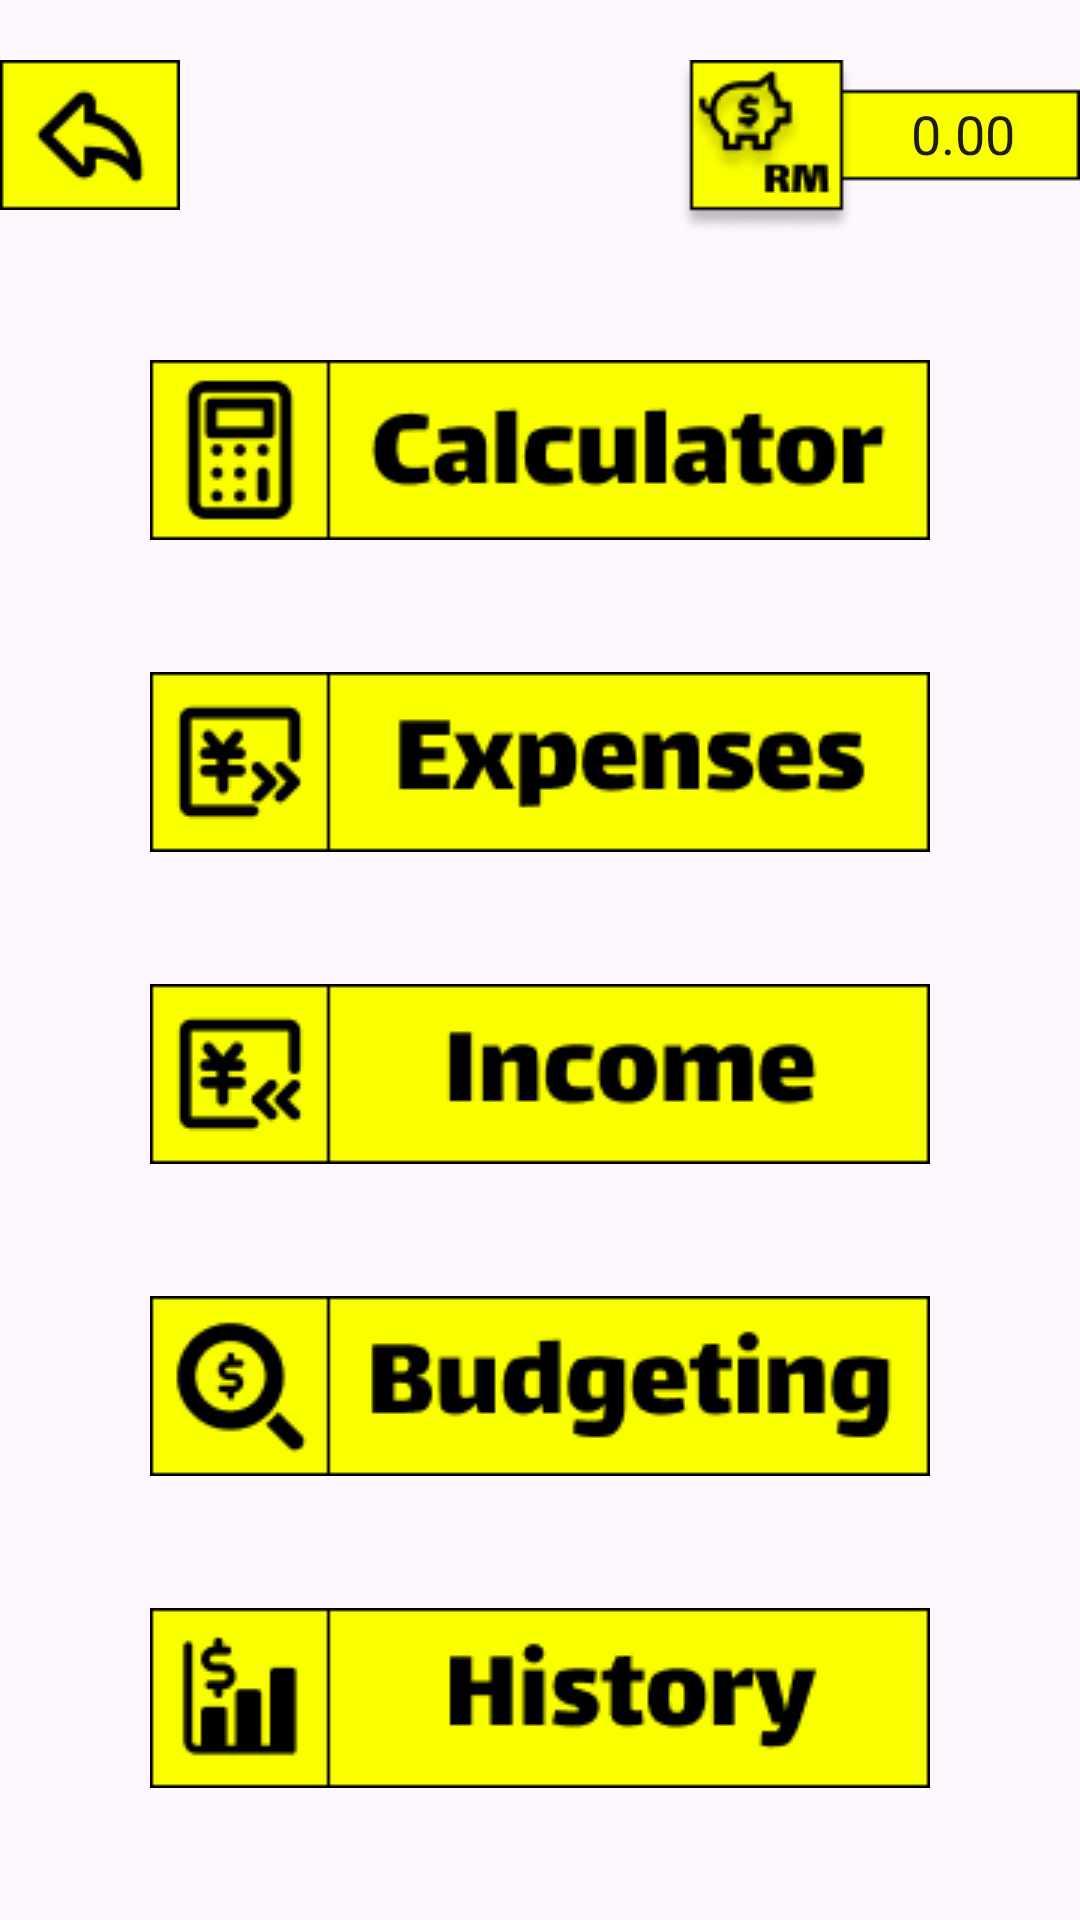

Icons on this 1080 × 1920 Android screen, each with the point to tap as point (x, y):
previous page: point (90, 135)
